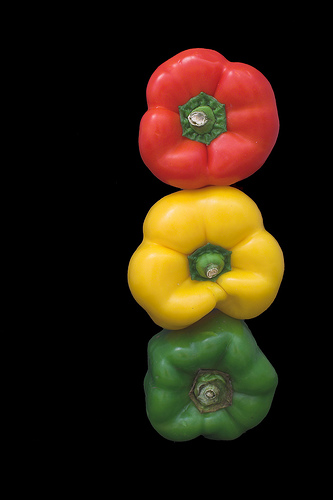capsicum: (125, 182, 284, 331), (138, 48, 277, 185), (138, 307, 279, 442)
